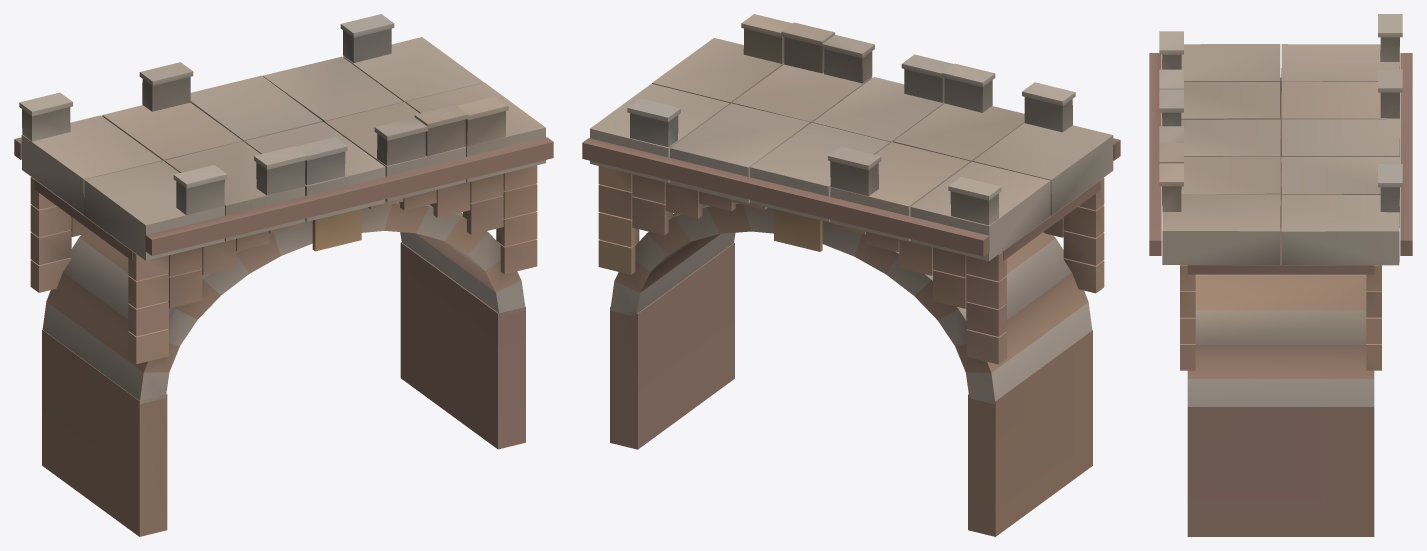
File: span_bay_broken.glb
The picture shows the model from 3 angles, left to right: view 1: azimuth 30°, elevation 25°; view 2: azimuth 150°, elevation 25°; view 3: azimuth 270°, elevation 25°; orthographic projection. The views are drawn at different scales.
Parts seen in each view (by area): view 1: span_bay_broken; view 2: span_bay_broken; view 3: span_bay_broken.
Boxes of the visible parts, left/top/right/bottom form: span_bay_broken: left=14, top=14, right=553, bottom=536; span_bay_broken: left=582, top=14, right=1120, bottom=536; span_bay_broken: left=1149, top=14, right=1412, bottom=536.
Bounding box in the file's own units: 13.01 × 11.04 × 7.72.
